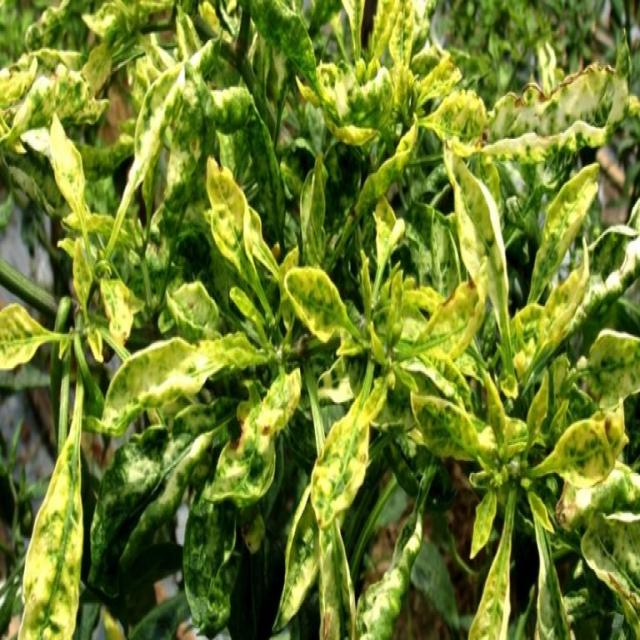virus_kuning: (17, 382, 87, 640), (307, 383, 376, 537), (552, 383, 628, 497), (51, 96, 96, 237)
